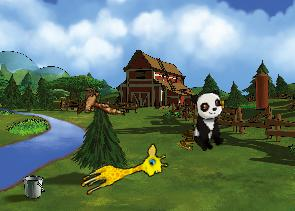eagle: (70, 81, 125, 128)
giraffe: (77, 140, 171, 206)
panda: (189, 89, 227, 152)
